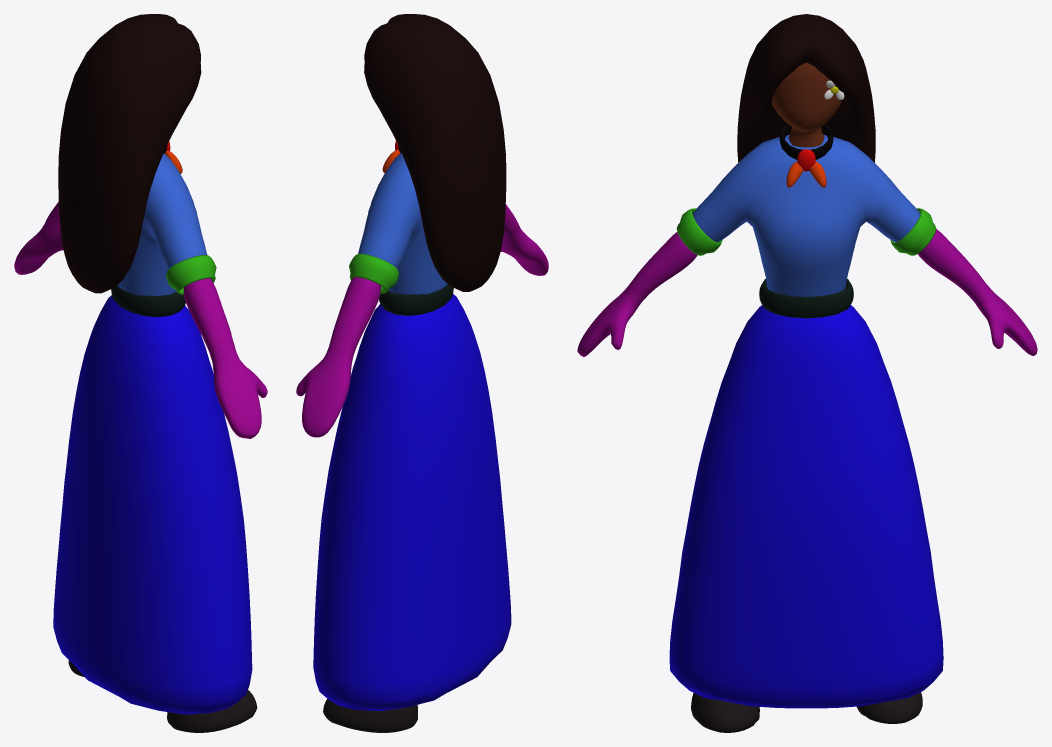
Rendered from morta_junta.fbx.
The picture shows the model from 3 angles, left to right: view 1: azimuth 30°, elevation 25°; view 2: azimuth 150°, elevation 25°; view 3: azimuth 270°, elevation 25°; orthographic projection.
Parts seen in each view (by area): view 1: Cube.010; view 2: Cube.010; view 3: Cube.010.
Boxes of the visible parts, x1,y1,x2,y2 form: Cube.010: (14,14,267,732); Cube.010: (296,14,548,732); Cube.010: (577,14,1037,732).
Size of the model in its own units: 15.78 by 67.19 by 41.13.
